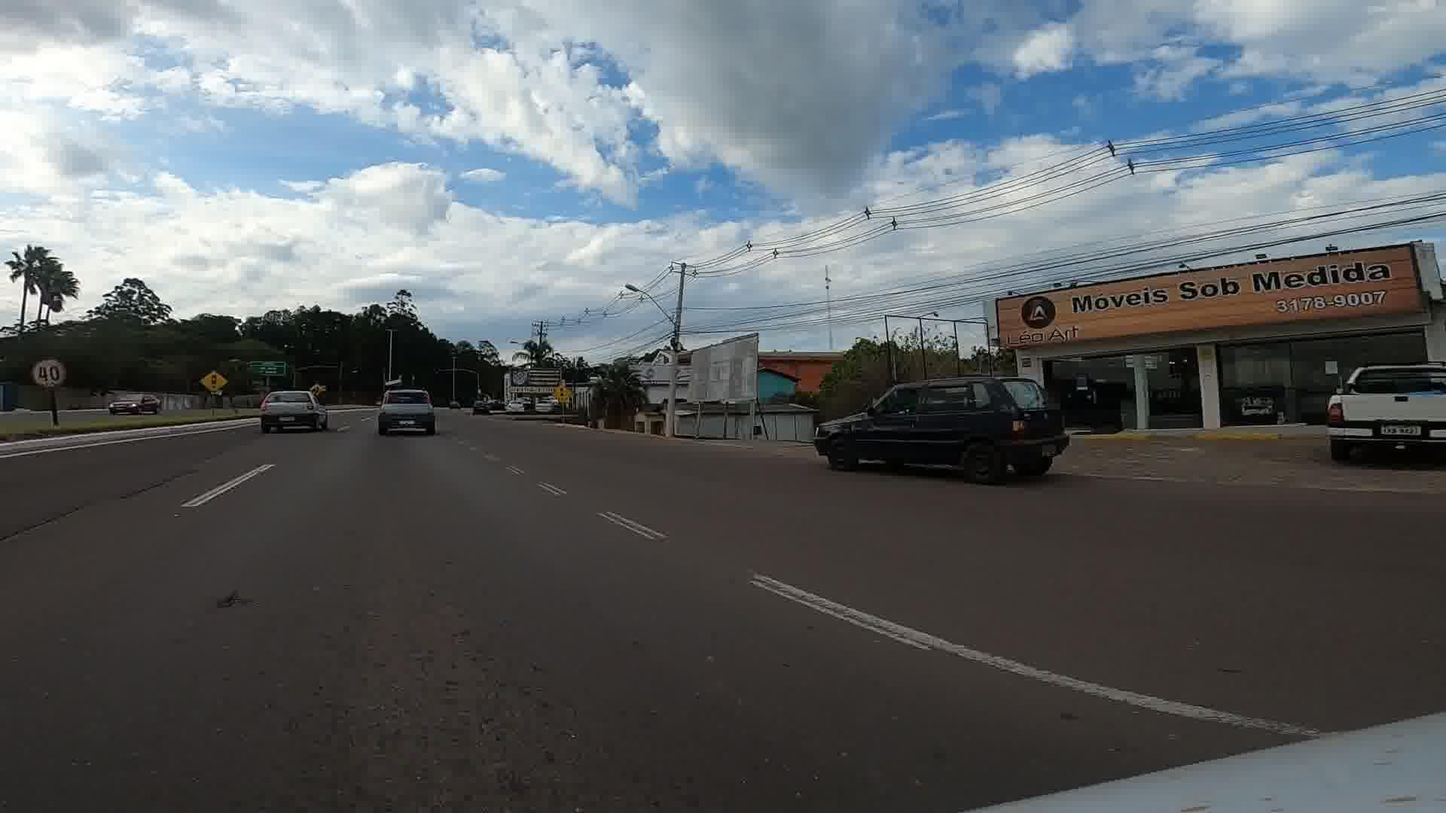R-19: (32, 359, 69, 389)
